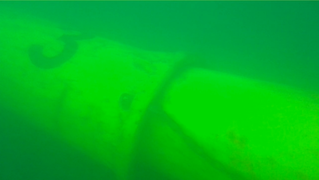3: (28, 24, 97, 69)
pipe: (1, 5, 319, 180)
